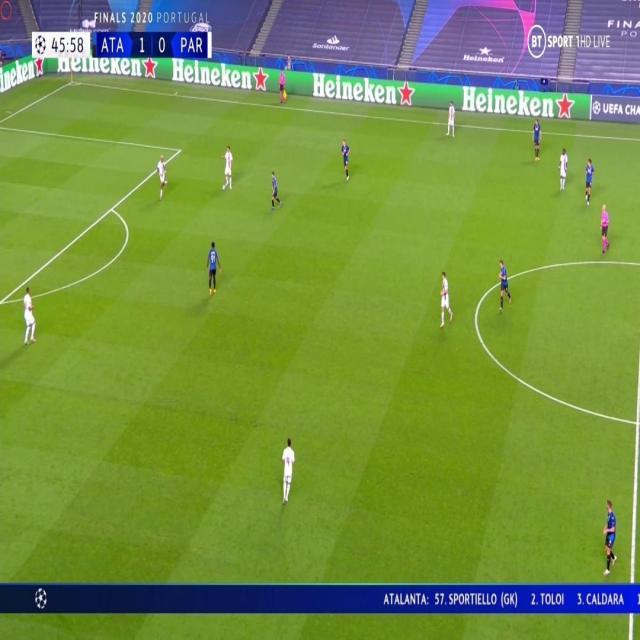player: (601, 494, 618, 576), (281, 433, 297, 504), (21, 284, 38, 345), (438, 269, 453, 329), (206, 239, 221, 297), (498, 257, 512, 311), (220, 141, 234, 192), (583, 155, 596, 206), (268, 170, 284, 211), (156, 151, 169, 200), (340, 137, 353, 181), (557, 145, 569, 191), (531, 116, 543, 161), (445, 97, 456, 137)
referee: (599, 200, 611, 253), (277, 66, 288, 105)
